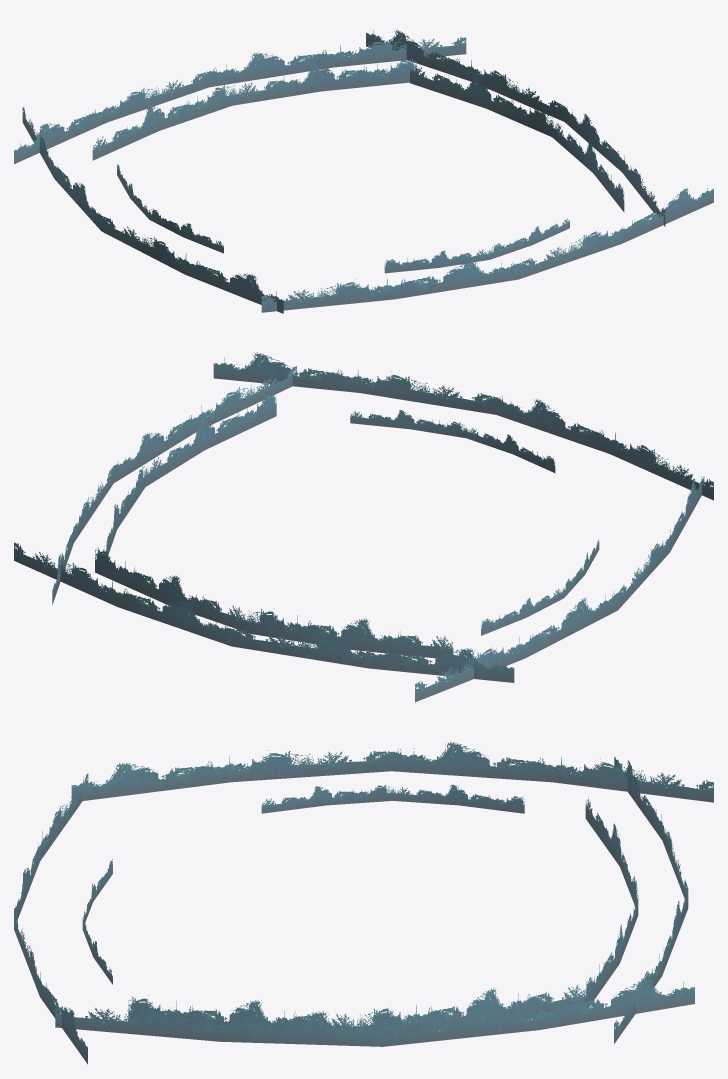
Rendered from SM_BackgroundCutouts_01.fbx.
3 views of the same model, one above another, from view 1: azimuth 30°, elevation 25°; view 2: azimuth 150°, elevation 25°; view 3: azimuth 270°, elevation 25° (orthographic). The views are drawn at different scales.
Parts seen in each view (by area): view 1: SM_BackgroundCutouts_01; view 2: SM_BackgroundCutouts_01; view 3: SM_BackgroundCutouts_01.
Boxes of the visible parts, x1,y1,x2,y2 form: SM_BackgroundCutouts_01: (14,29,713,313); SM_BackgroundCutouts_01: (14,352,713,702); SM_BackgroundCutouts_01: (14,742,713,1064).
Size of the model in its own units: 559 by 40.09 by 564.
